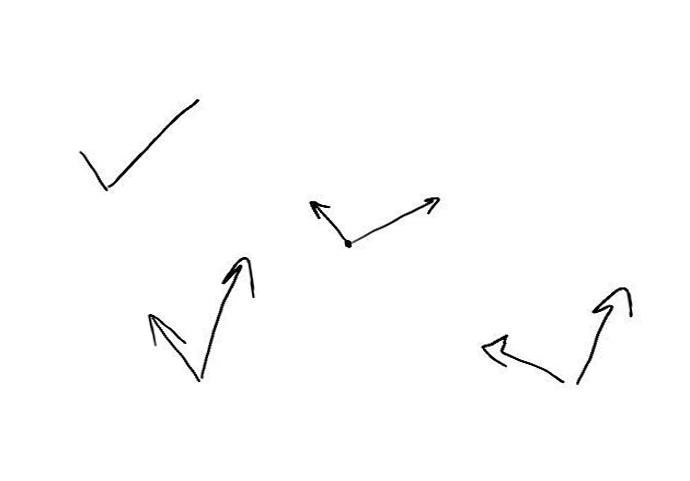arrow: (203, 255, 254, 376), (576, 287, 633, 379), (478, 333, 566, 383), (355, 193, 441, 240), (146, 310, 200, 381), (311, 201, 347, 242)
arrownohead: (110, 97, 200, 187), (77, 149, 105, 190)
